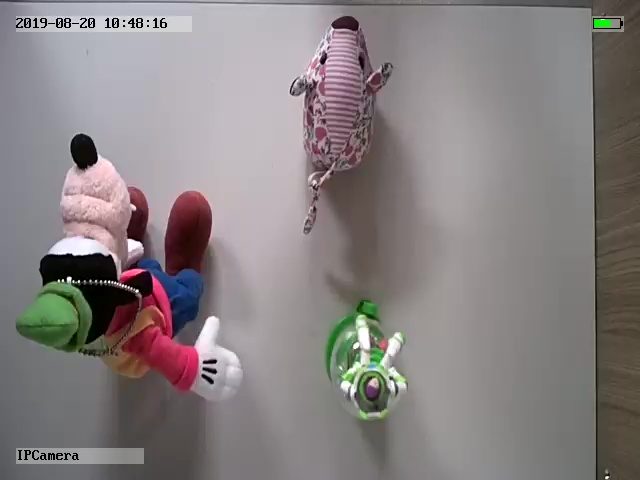buzz: (320, 299, 413, 425)
goofy: (13, 133, 245, 406)
pig: (285, 15, 395, 238)
